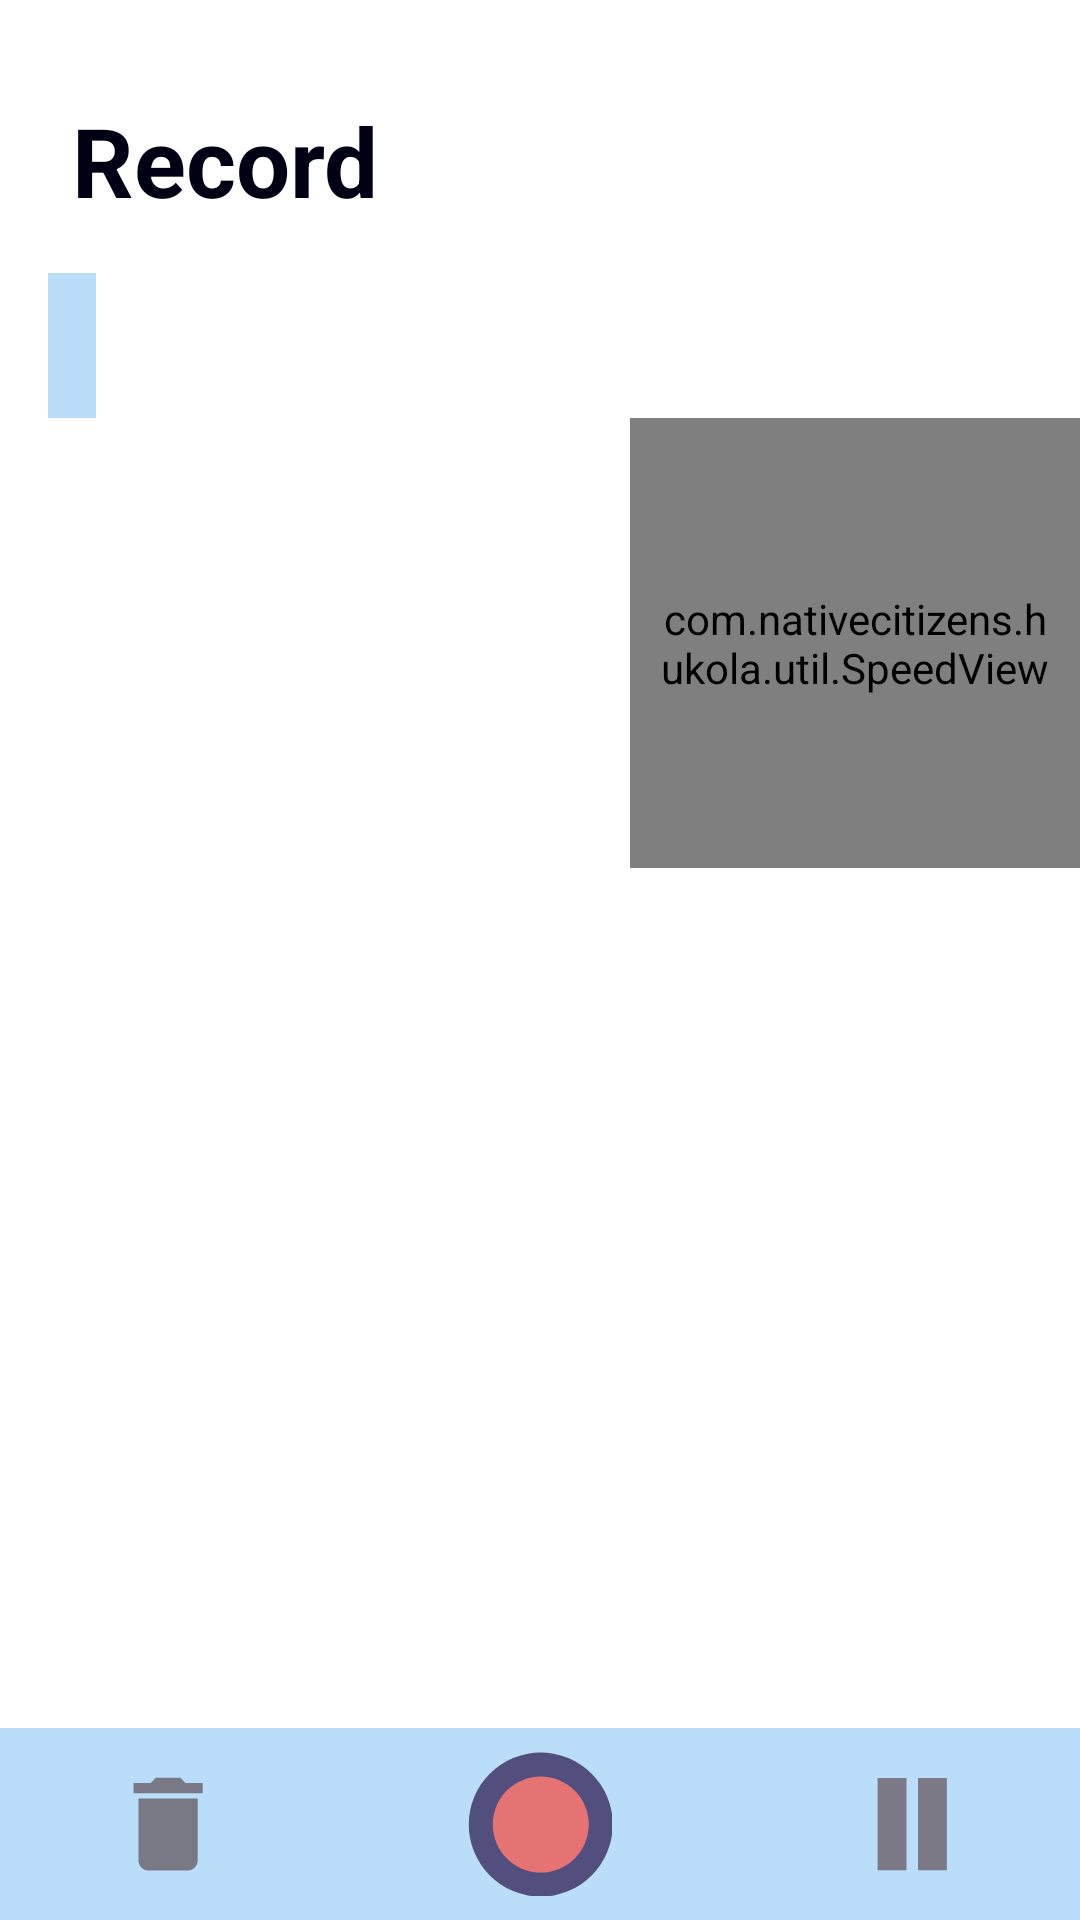

Screen size 1080 × 1920. Icon name, then its center in pixels as point (x, y):
transition delete: point (168, 1824)
transition pause: point (912, 1824)
transition record: point (540, 1824)
